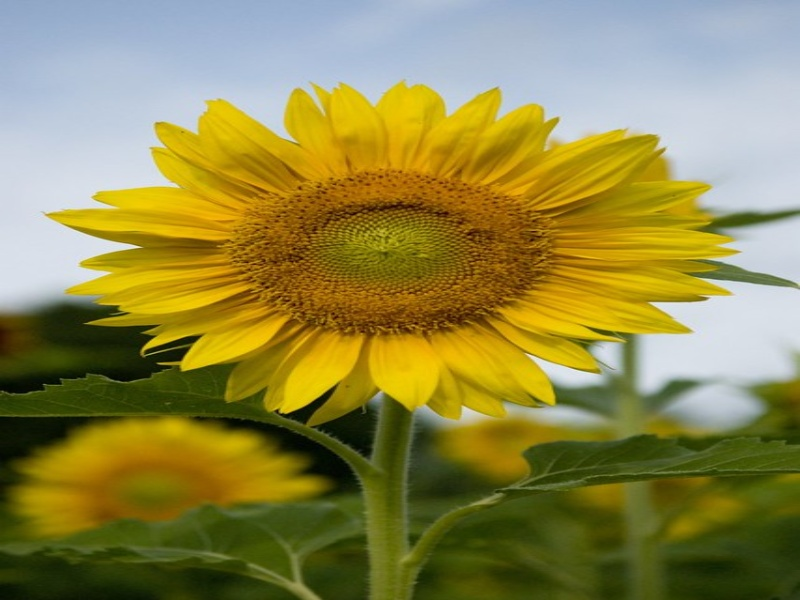sunflower: (30, 54, 758, 446)
